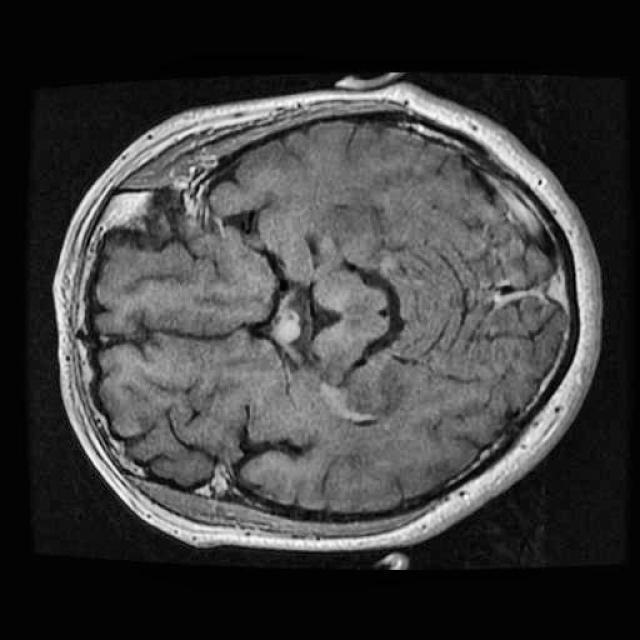Tumor: (259, 294, 312, 359)
